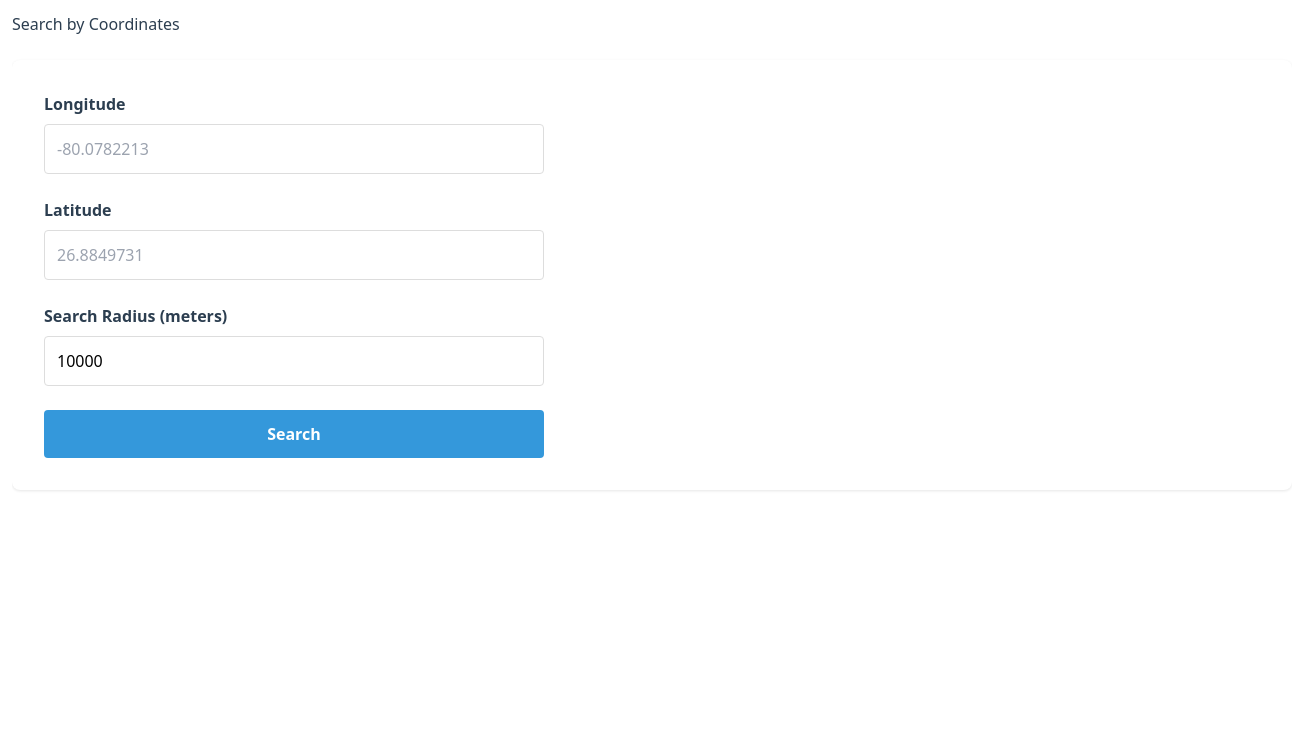
Test case: CoordinateSearch › should display no results message
Type "-80.078" into the field labelled "Longitude". click: [294, 149]
box: [44,124,544,174]
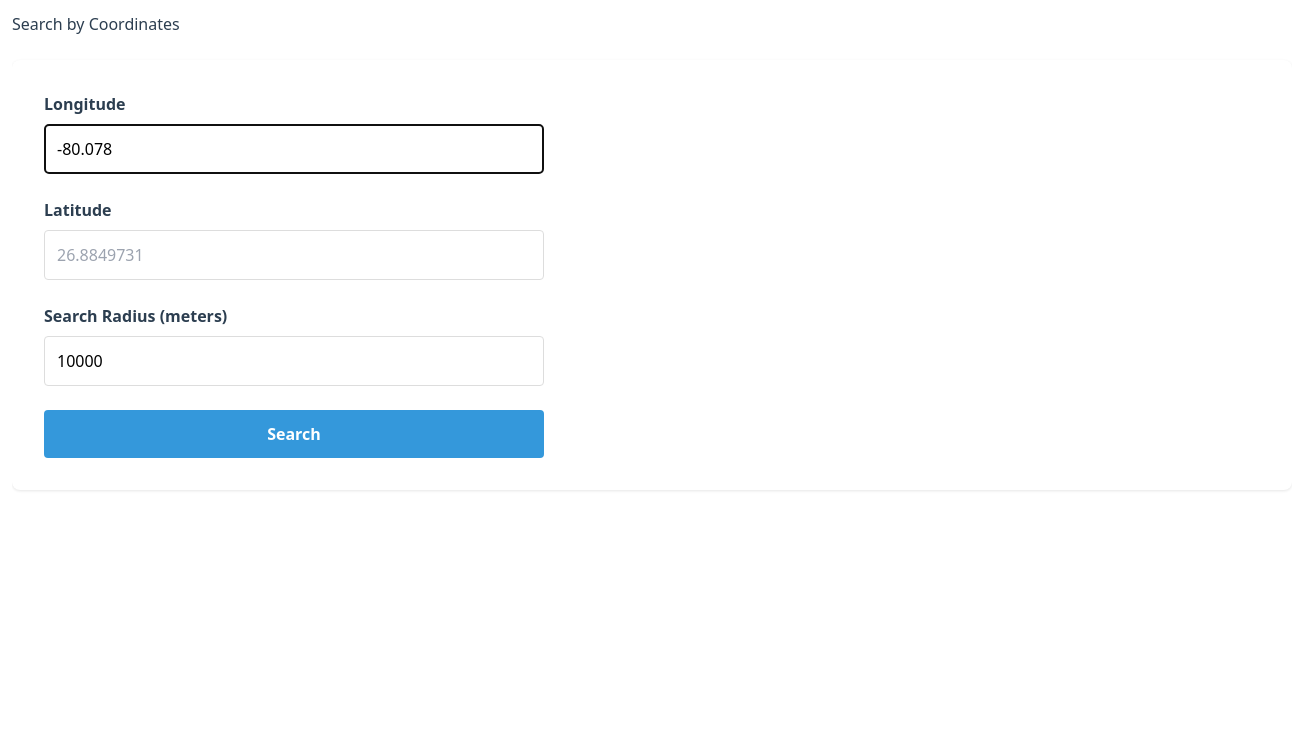
Type "26.885" into the field labelled "Latitude". click: [294, 255]
box: [44,230,544,280]
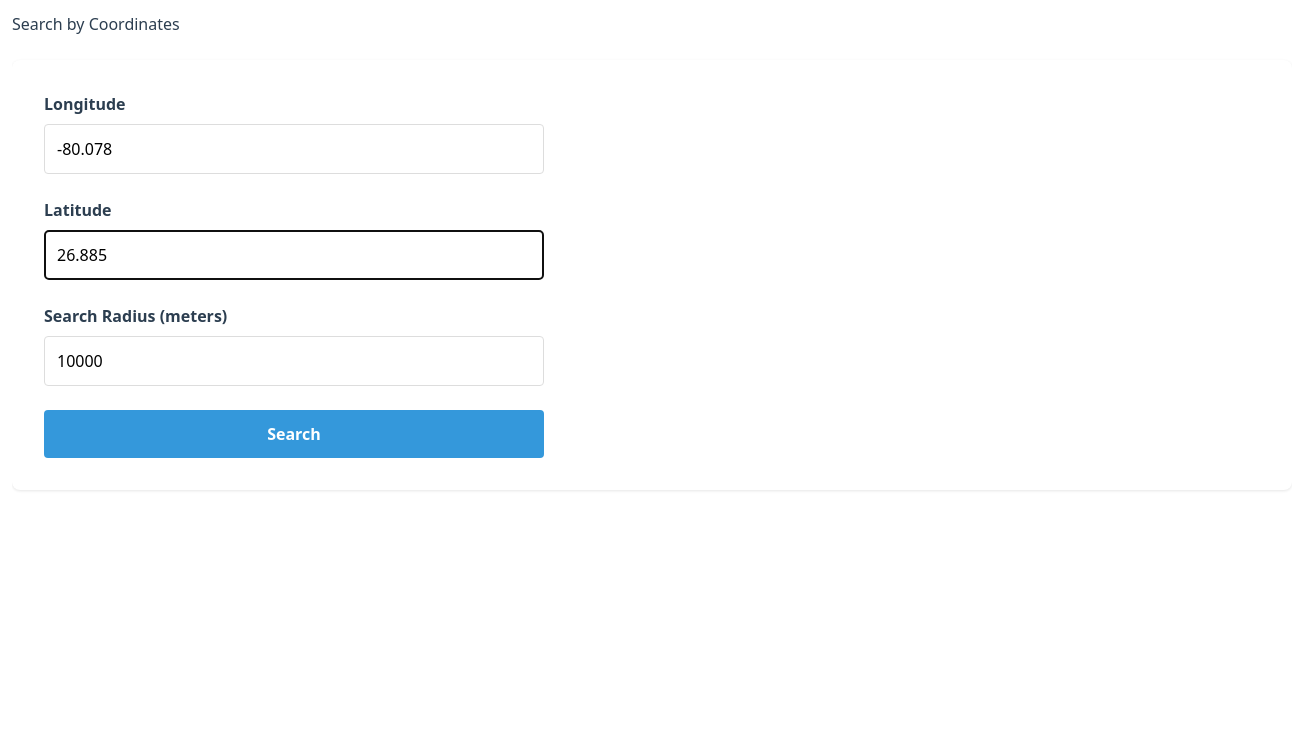
Click the button "Search". click: [294, 434]
box: [44,410,544,458]
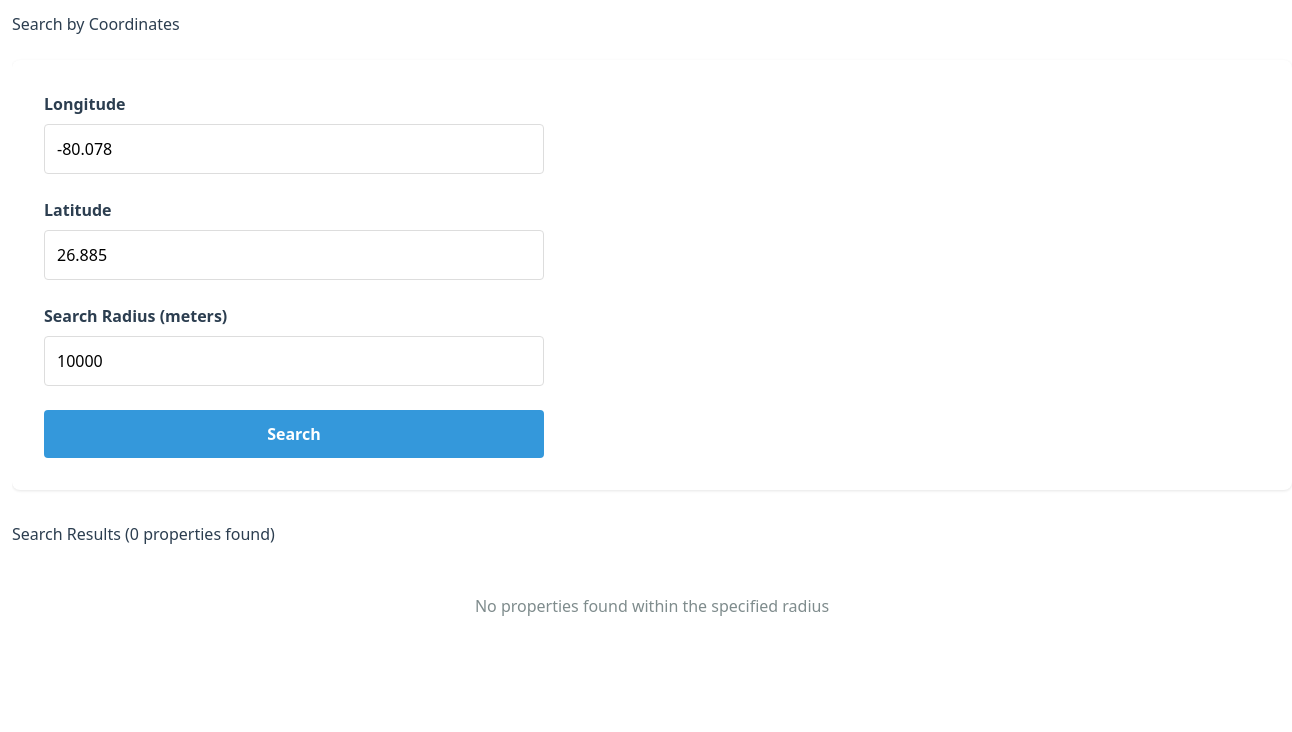
Expected: the heading "Search Results (0 properties found)" is shown, [12,523,275,545]
Expected: the text "No properties found within the specified radius" is shown, [12,562,1291,650]
